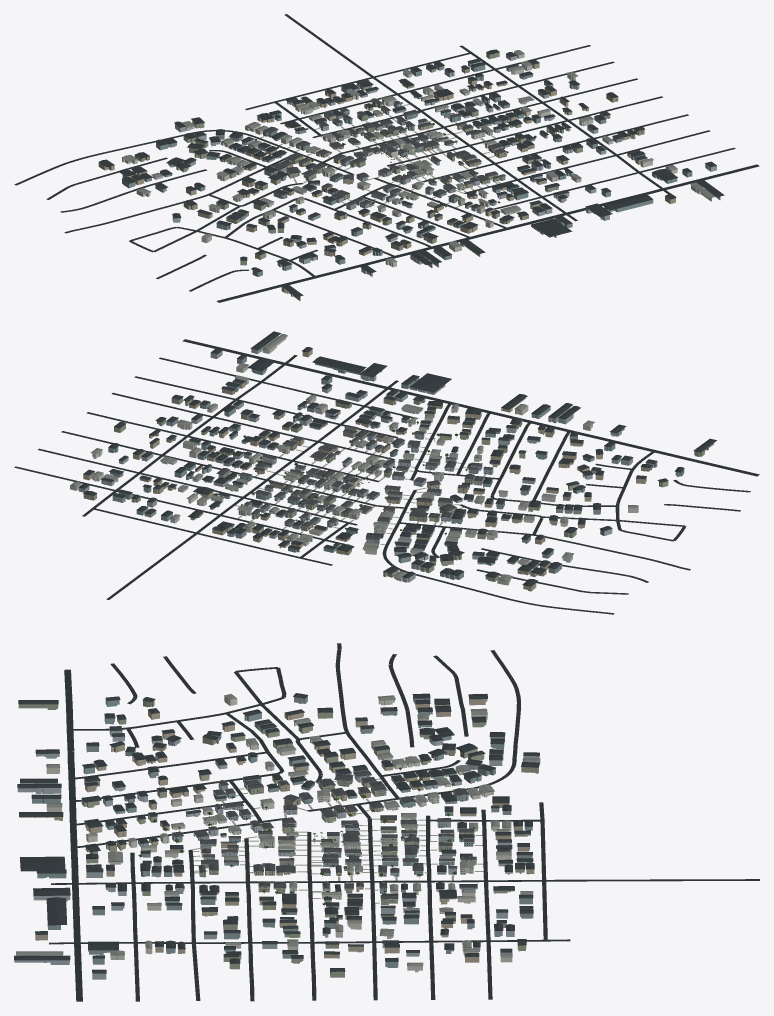
Rendered from neighborhood.glb.
The picture shows the model from 3 angles, top to bottom: view 1: azimuth 30°, elevation 25°; view 2: azimuth 150°, elevation 25°; view 3: azimuth 270°, elevation 25°; orthographic projection. The views are drawn at different scales.
Parts seen in each view (by area): view 1: NeighborhoodShells-distant-roof-distant-0-0-surface, NeighborhoodShells-distant-siding-distant-0-0-surface, TerrainRoads-asphalt-nearby-0-0-surface, NeighborhoodShells-background-siding-background-0-0-surface, NeighborhoodShells-roof-slate-background-0-0-surface, NeighborhoodShells-distant-roof-distant-0--1-surface, NeighborhoodShells-distant-roof-distant--1-0-surface, TerrainRoads-asphalt-nearby--1-0-surface, NeighborhoodShells-distant-siding-distant--1-0-surface, TerrainRoads-asphalt-nearby-1-0-surface, NeighborhoodShells-distant-siding-distant-1-0-surface, NeighborhoodShells-distant-roof-distant-1-0-surface (+14 smaller); view 2: NeighborhoodShells-distant-roof-distant-0-0-surface, NeighborhoodShells-distant-siding-distant-0-0-surface, TerrainRoads-asphalt-nearby-0-0-surface, NeighborhoodShells-roof-slate-background-0-0-surface, NeighborhoodShells-background-siding-background-0-0-surface, NeighborhoodShells-distant-roof-distant-0--1-surface, NeighborhoodShells-distant-roof-distant--1-0-surface, TerrainRoads-asphalt-nearby--1-0-surface, TerrainRoads-asphalt-nearby-1-0-surface, NeighborhoodShells-distant-siding-distant-1-0-surface, NeighborhoodShells-distant-roof-distant-1-0-surface, NeighborhoodShells-distant-siding-distant--1-0-surface (+15 smaller); view 3: NeighborhoodShells-distant-roof-distant-0-0-surface, NeighborhoodShells-distant-siding-distant-0-0-surface, TerrainRoads-asphalt-nearby-0-0-surface, NeighborhoodShells-roof-slate-background-0-0-surface, NeighborhoodShells-background-siding-background-0-0-surface, NeighborhoodShells-distant-roof-distant-0--1-surface, NeighborhoodShells-distant-roof-distant--1-0-surface, TerrainRoads-asphalt-nearby--1-0-surface, NeighborhoodShells-distant-roof-distant-1-0-surface, NeighborhoodShells-distant-siding-distant--1-0-surface, TerrainRoads-asphalt-nearby-1-0-surface, NeighborhoodShells-distant-siding-distant-1-0-surface (+15 smaller).
Boxes of the visible parts, x1,y1,x2,y2 form: NeighborhoodShells-distant-roof-distant-0-0-surface: (183, 68, 581, 242); NeighborhoodShells-distant-siding-distant-0-0-surface: (183, 70, 581, 246); TerrainRoads-asphalt-nearby-0-0-surface: (191, 69, 564, 243); NeighborhoodShells-background-siding-background-0-0-surface: (263, 100, 506, 210); NeighborhoodShells-roof-slate-background-0-0-surface: (263, 98, 506, 205); NeighborhoodShells-distant-roof-distant-0--1-surface: (358, 184, 652, 264); NeighborhoodShells-distant-roof-distant--1-0-surface: (99, 138, 316, 260); TerrainRoads-asphalt-nearby--1-0-surface: (14, 134, 318, 278); NeighborhoodShells-distant-siding-distant--1-0-surface: (98, 142, 316, 265); TerrainRoads-asphalt-nearby-1-0-surface: (450, 45, 735, 183); NeighborhoodShells-distant-siding-distant-1-0-surface: (461, 52, 652, 167); NeighborhoodShells-distant-roof-distant-1-0-surface: (461, 50, 653, 162); NeighborhoodShells-distant-roof-distant-0-0-surface: (147, 394, 576, 568); NeighborhoodShells-distant-siding-distant-0-0-surface: (147, 397, 576, 572); TerrainRoads-asphalt-nearby-0-0-surface: (117, 406, 559, 575); NeighborhoodShells-roof-slate-background-0-0-surface: (216, 425, 493, 540); NeighborhoodShells-background-siding-background-0-0-surface: (218, 427, 493, 542); NeighborhoodShells-distant-roof-distant-0--1-surface: (312, 356, 594, 443); NeighborhoodShells-distant-roof-distant--1-0-surface: (440, 464, 668, 586); TerrainRoads-asphalt-nearby--1-0-surface: (418, 463, 740, 614); TerrainRoads-asphalt-nearby-1-0-surface: (14, 357, 305, 508); NeighborhoodShells-distant-siding-distant-1-0-surface: (70, 377, 259, 502); NeighborhoodShells-distant-roof-distant-1-0-surface: (70, 375, 259, 499); NeighborhoodShells-distant-siding-distant--1-0-surface: (440, 467, 668, 591); NeighborhoodShells-distant-roof-distant-0-0-surface: (131, 748, 522, 917); NeighborhoodShells-distant-siding-distant-0-0-surface: (132, 754, 522, 919); TerrainRoads-asphalt-nearby-0-0-surface: (116, 752, 543, 941); NeighborhoodShells-roof-slate-background-0-0-surface: (172, 770, 476, 899); NeighborhoodShells-background-siding-background-0-0-surface: (160, 773, 476, 904); NeighborhoodShells-distant-roof-distant-0--1-surface: (17, 759, 136, 925); NeighborhoodShells-distant-roof-distant--1-0-surface: (142, 693, 505, 754); TerrainRoads-asphalt-nearby--1-0-surface: (132, 643, 520, 771); NeighborhoodShells-distant-roof-distant-1-0-surface: (145, 914, 514, 971); NeighborhoodShells-distant-siding-distant--1-0-surface: (143, 696, 504, 759); TerrainRoads-asphalt-nearby-1-0-surface: (132, 900, 545, 1001); NeighborhoodShells-distant-siding-distant-1-0-surface: (145, 918, 514, 977).
Size of what is drawn, in the model's own units: 1128 by 10.14 by 992.
21 materials, 3 textured.
